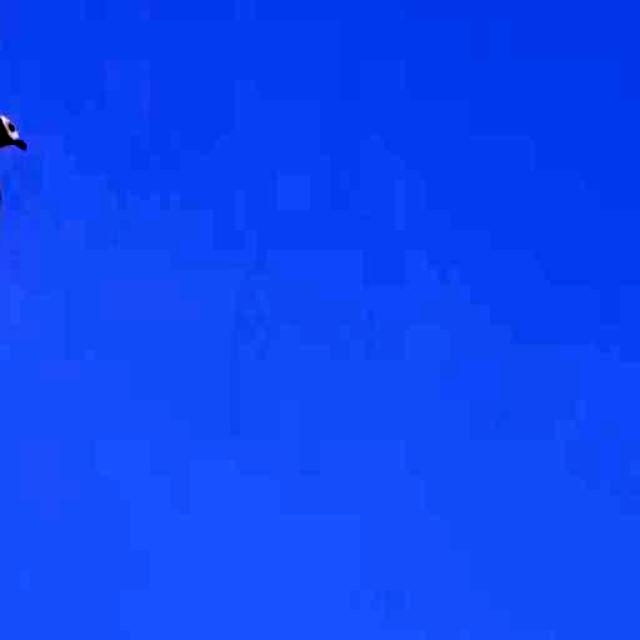airplane: (0, 0, 31, 306)
